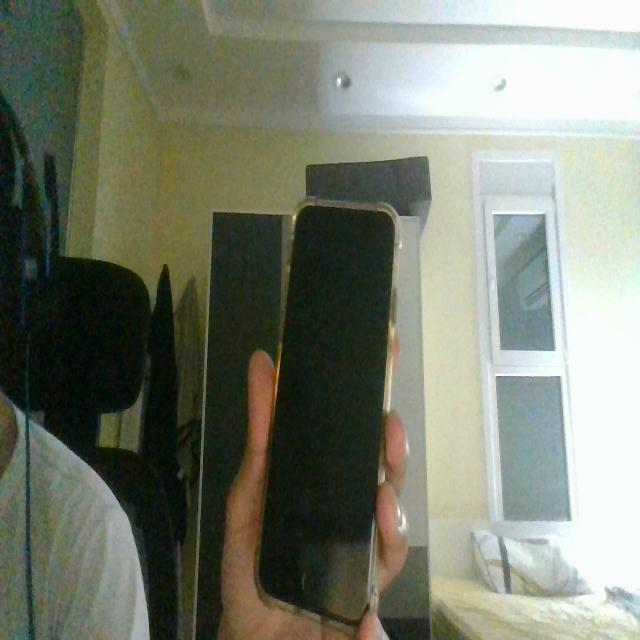Phone: (252, 201, 403, 631)
